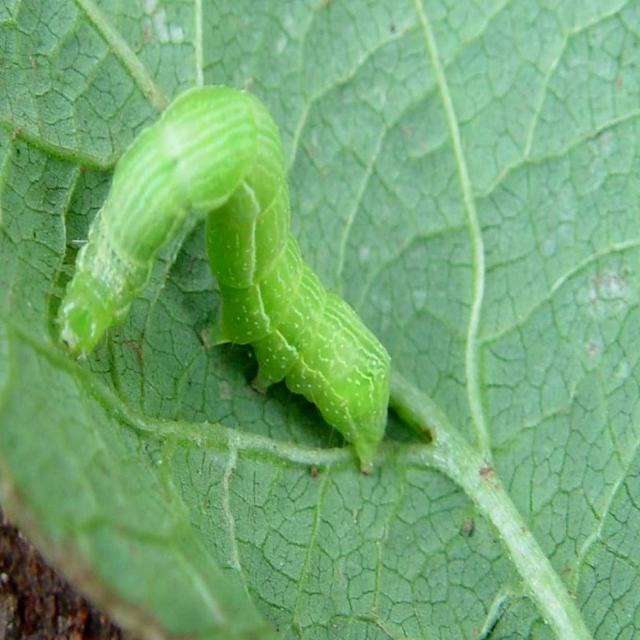looper: (57, 75, 405, 478)
